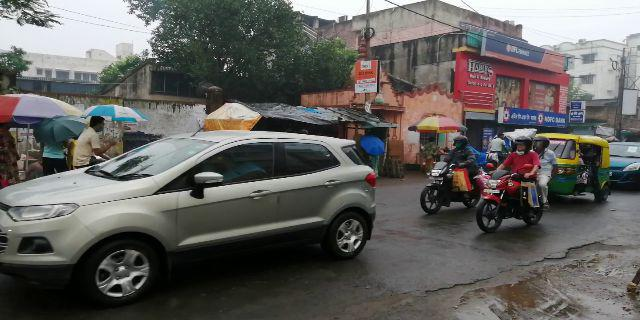Autorickshaw: (540, 129, 615, 206)
Car: (1, 129, 372, 299)
Motorbike: (477, 141, 556, 233), (416, 132, 483, 213)
